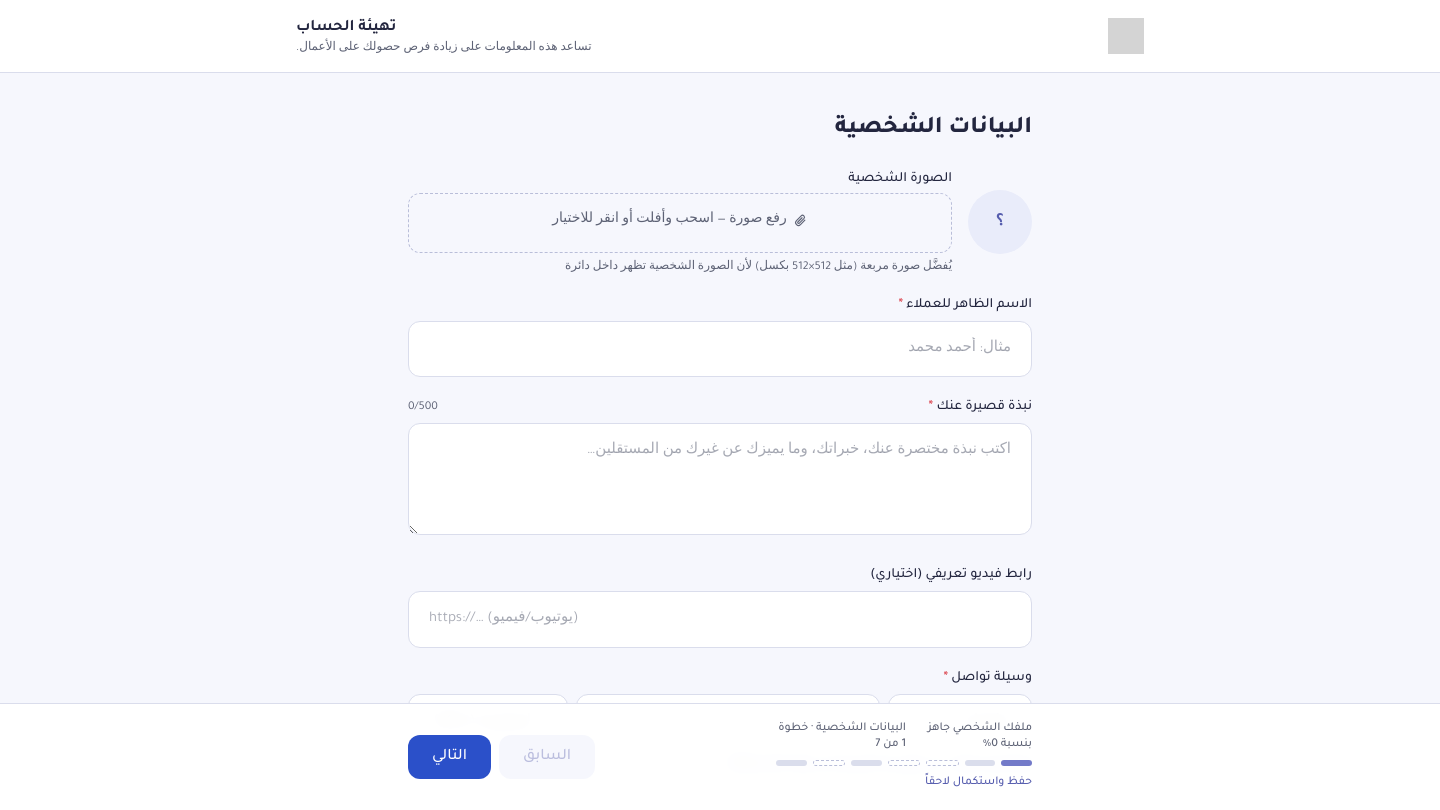
Test case: ProfileWizard › blocks advancing past a mandatory step with empty fields
Check: the heading "البيانات الشخصية" is shown, box [835,117,1032,141]
Click the button "التالي".
click(450, 757)  # box [408,735,491,779]
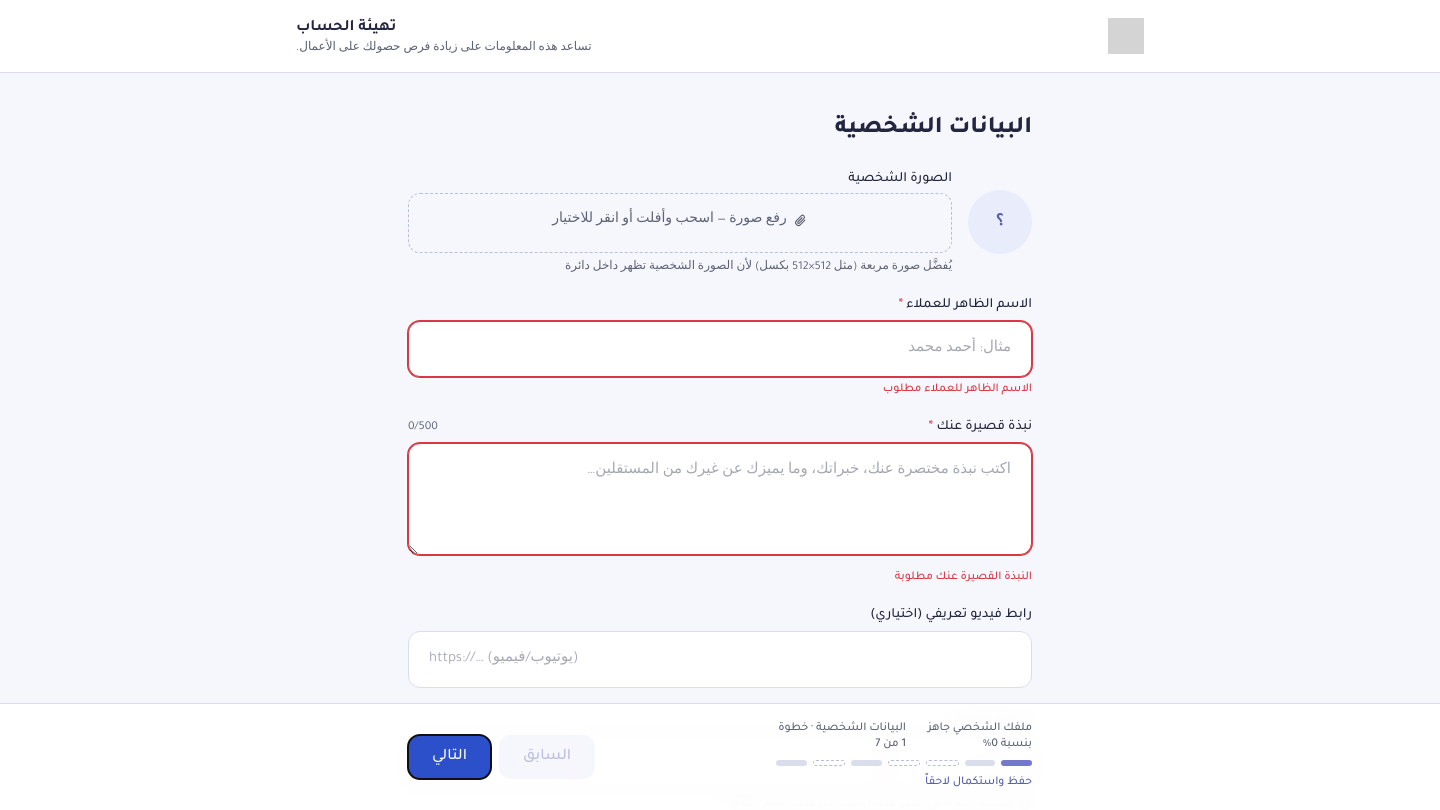
Check: the heading "البيانات الشخصية" is shown, box [835,117,1032,141]
Check: the text "الاسم الظاهر للعملاء مطلوب" is shown, box [883,383,1032,395]
